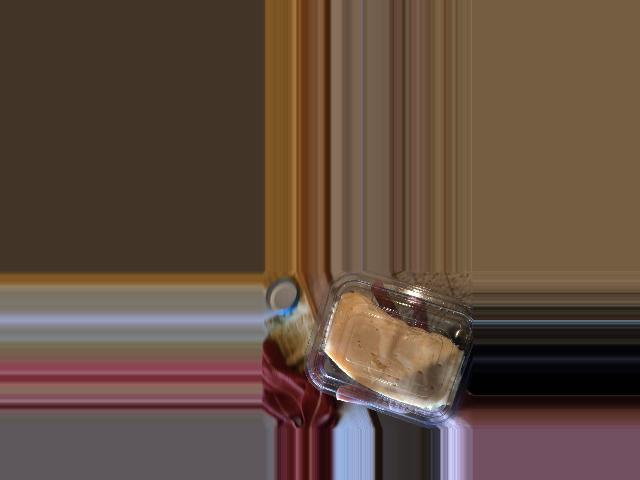cheese: (302, 278, 474, 417)
